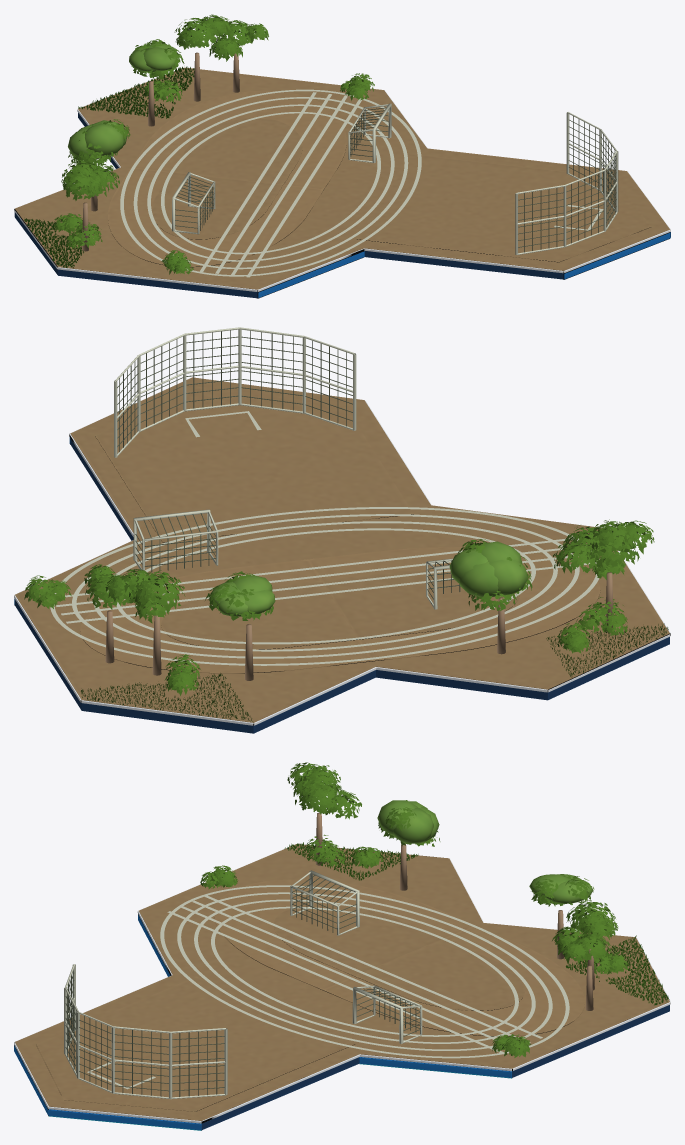
The model's file is field_cm02_01.glb.
The picture shows the model from 3 angles, top to bottom: view 1: azimuth 30°, elevation 25°; view 2: azimuth 150°, elevation 25°; view 3: azimuth 270°, elevation 25°; orthographic projection. The views are drawn at different scales.
Visible parts, largest first — view 1: field_cm02_01-runtime-static; view 2: field_cm02_01-runtime-static; view 3: field_cm02_01-runtime-static.
Part boxes in pixels (box(x1,y1,x2,y2)): field_cm02_01-runtime-static: box(14, 14, 670, 298); field_cm02_01-runtime-static: box(14, 327, 670, 733); field_cm02_01-runtime-static: box(14, 762, 670, 1130).
Size of the model in its own units: 14.93 by 2.66 by 14.93.
1 material, 1 textured.
